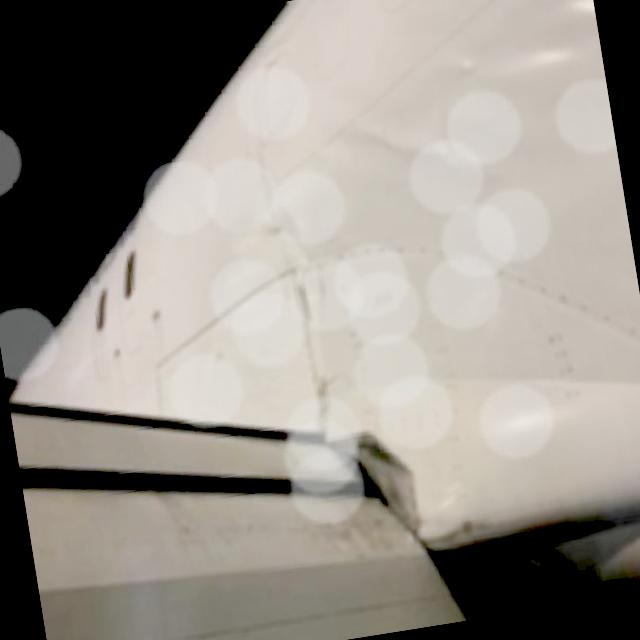dent: (339, 100, 458, 180), (251, 204, 314, 276), (513, 31, 577, 73), (448, 39, 491, 80), (523, 0, 593, 20)
